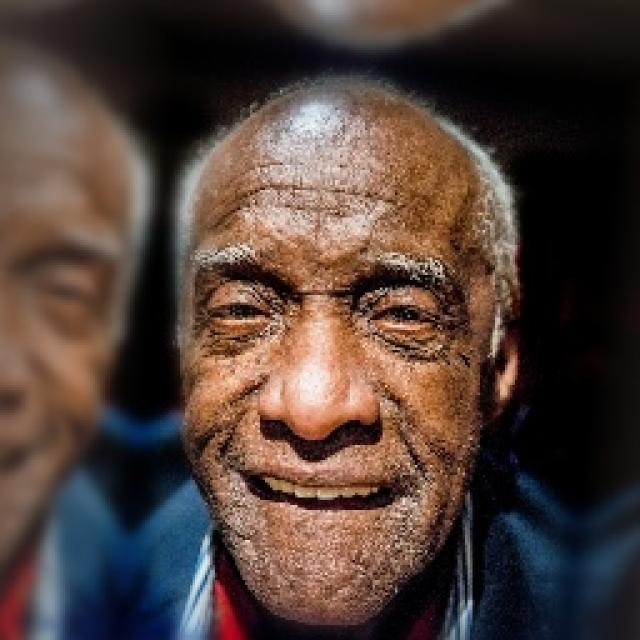no-glasses: (202, 274, 450, 368)
